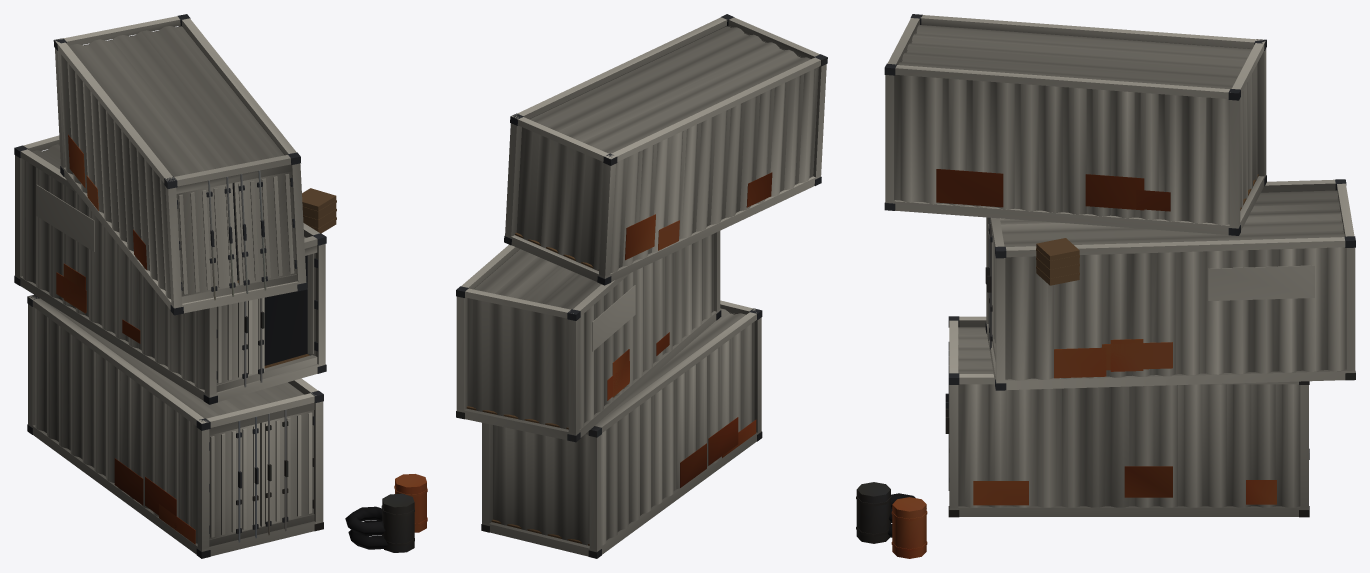
The model's file is shipping_container_stack3.glb.
3 renders of one model, left to right at view 1: azimuth 30°, elevation 25°; view 2: azimuth 150°, elevation 25°; view 3: azimuth 270°, elevation 25°, orthographic. The views are drawn at different scales.
Parts seen in each view (by area): view 1: paint, metal_dark, rust, metal_bare, paint2, wood, rubber; view 2: paint, rust, metal_dark, paint2, wood; view 3: paint, rust, metal_dark, paint2, wood, metal_bare.
Boxes of the visible parts, x1,y1,x2,y2 form: paint: (15,16,325,556); metal_dark: (14,14,414,558); rust: (56,134,427,544); metal_bare: (208,170,286,542); paint2: (36,184,94,251); wood: (237,188,336,368); rubber: (345,506,388,549); paint: (456,17,826,556); rust: (607,172,772,487); metal_dark: (456,14,827,558); paint2: (592,285,635,351); wood: (466,233,598,545); paint: (885,15,1355,516); rust: (891,169,1276,558); metal_dark: (856,14,1355,543); paint2: (988,224,1314,300); wood: (1036,174,1258,285); metal_bare: (948,217,991,490).
Size of what is drawn, in the model's own units: 5.17 by 7.91 by 8.42.
